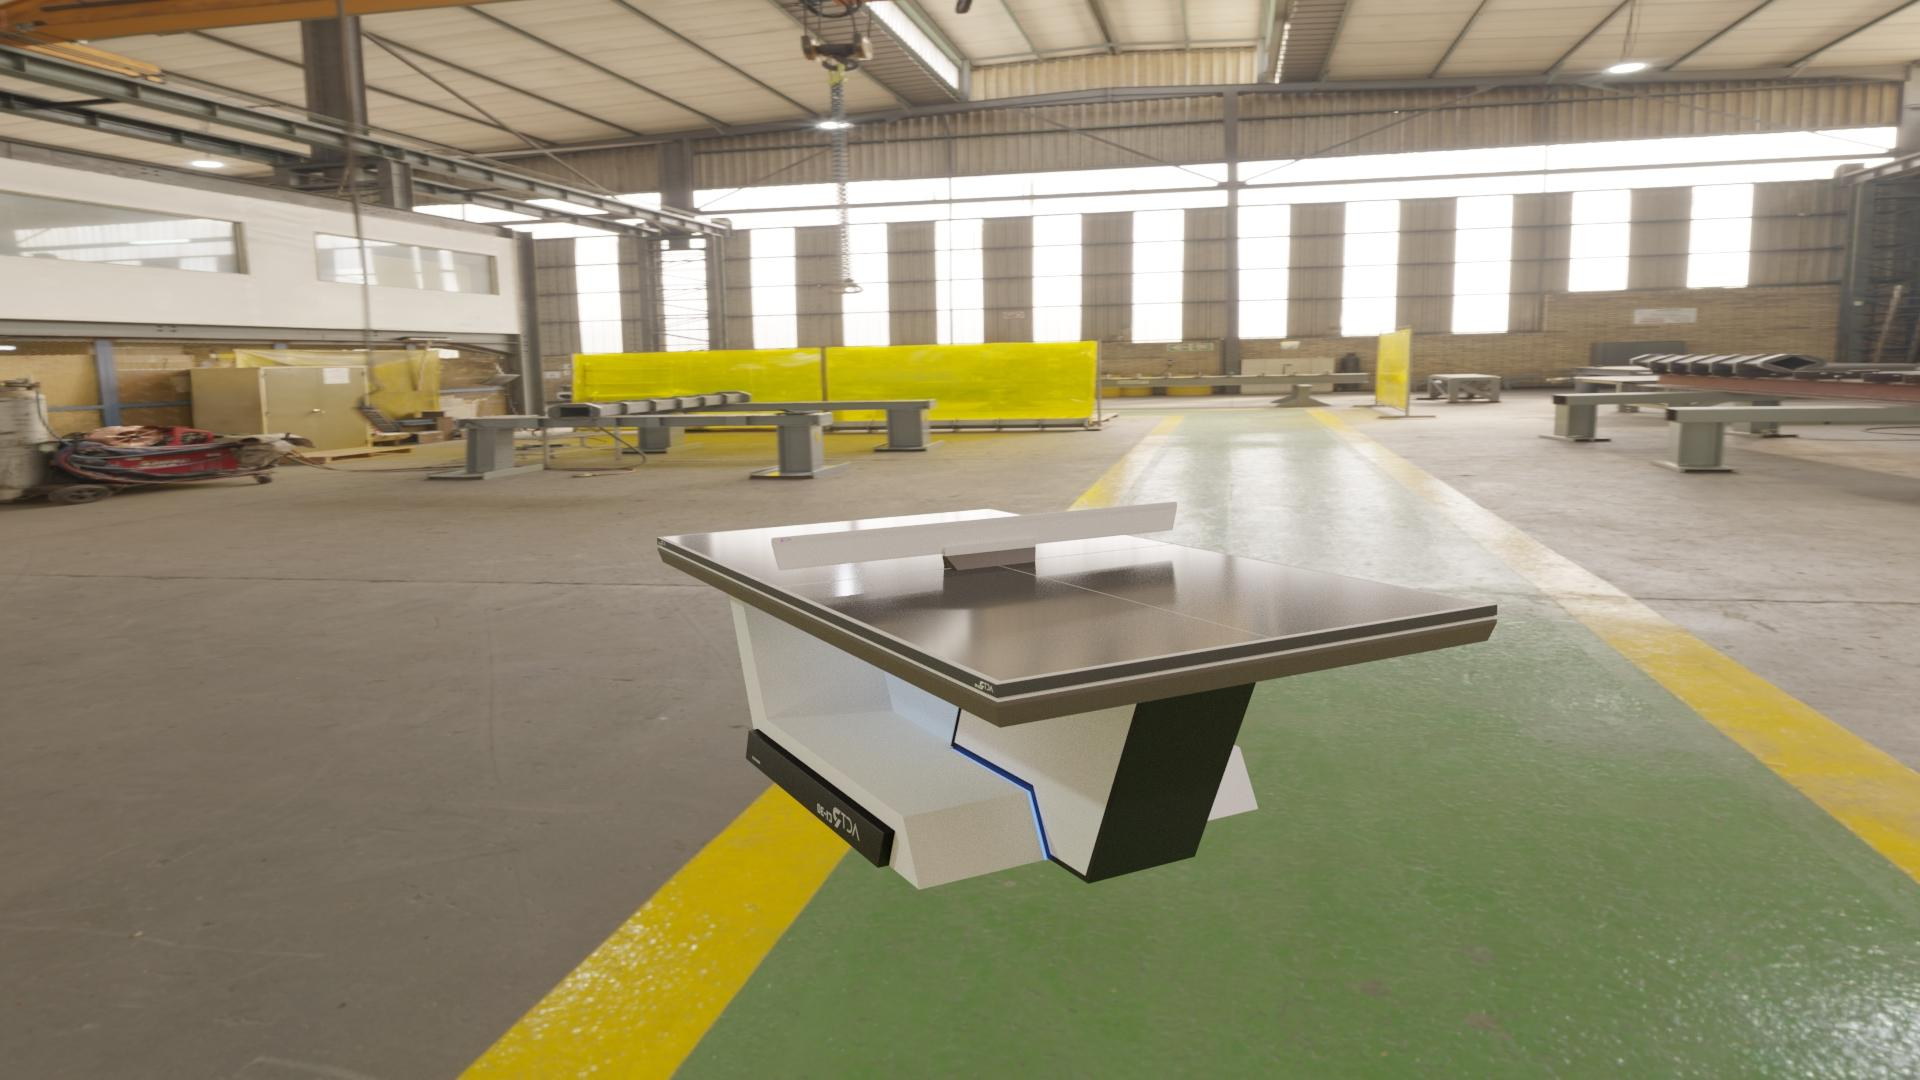table: (663, 509, 1486, 680)
